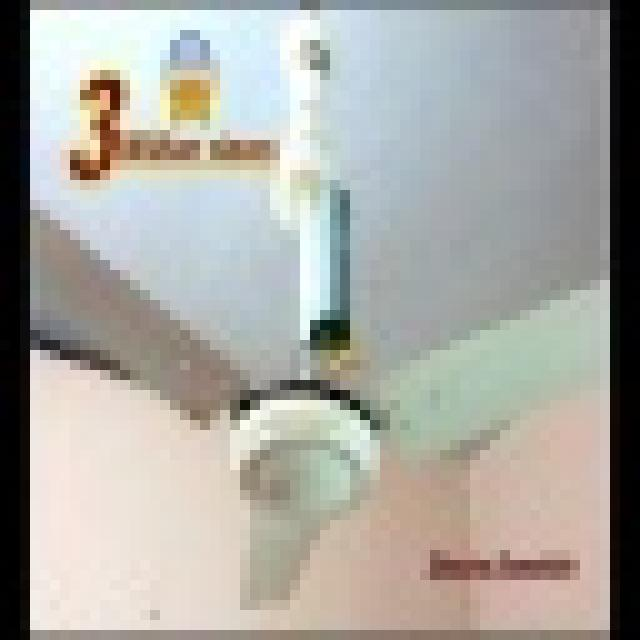Bulb: (38, 103, 613, 604)
